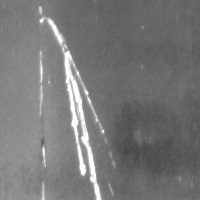scratches: (46, 17, 111, 199), (35, 46, 49, 138), (38, 140, 49, 200)
